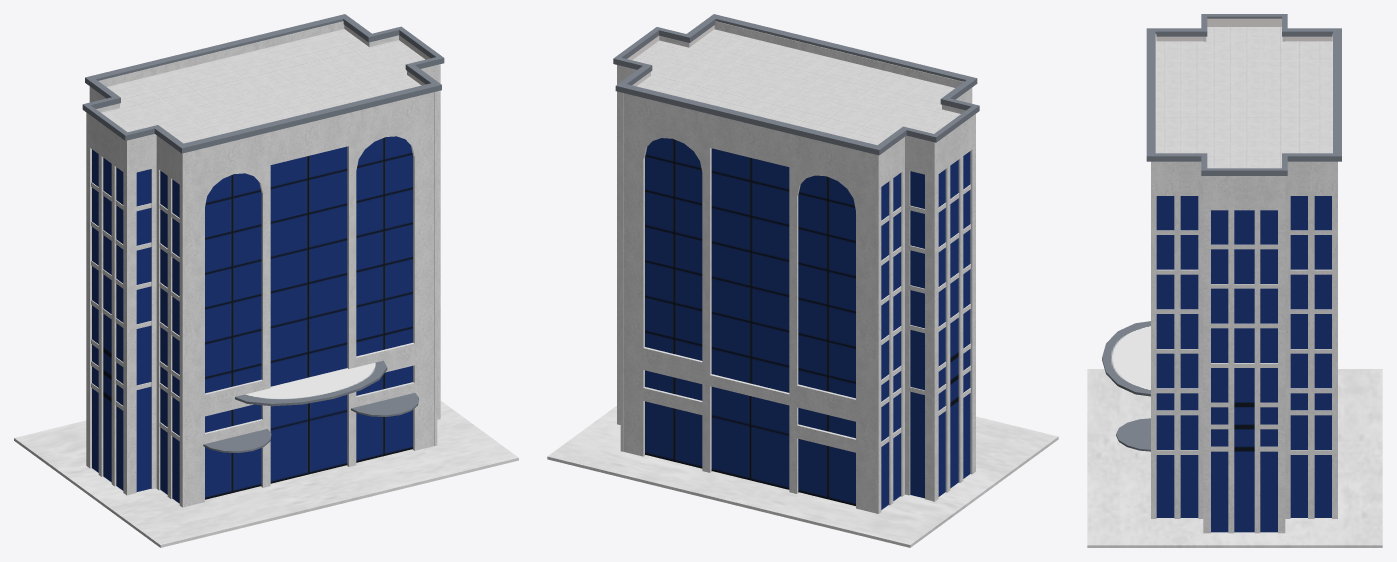
The model's file is toaphonghoc.fbx.
3 views of the same model, side by side, from view 1: azimuth 30°, elevation 25°; view 2: azimuth 150°, elevation 25°; view 3: azimuth 270°, elevation 25° (orthographic).
Parts seen in each view (by area): view 1: UV8_phonghoc; view 2: UV8_phonghoc; view 3: UV8_phonghoc.
Part boxes in pixels (x1,y1,x2,y2): UV8_phonghoc: [14, 14, 518, 547]; UV8_phonghoc: [547, 14, 1058, 547]; UV8_phonghoc: [1087, 14, 1382, 547].
Size of the model in its own units: 43.05 by 41.97 by 30.46.
Materials: 1 (1 with a texture image).
